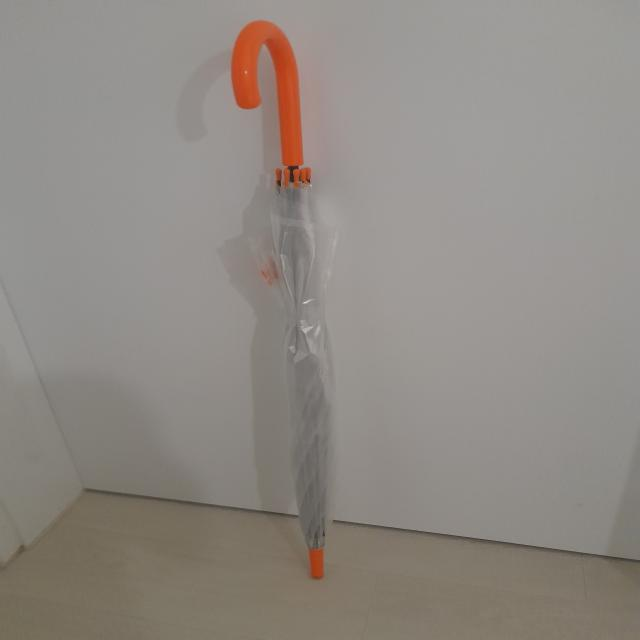umbrella: (237, 19, 340, 580)
